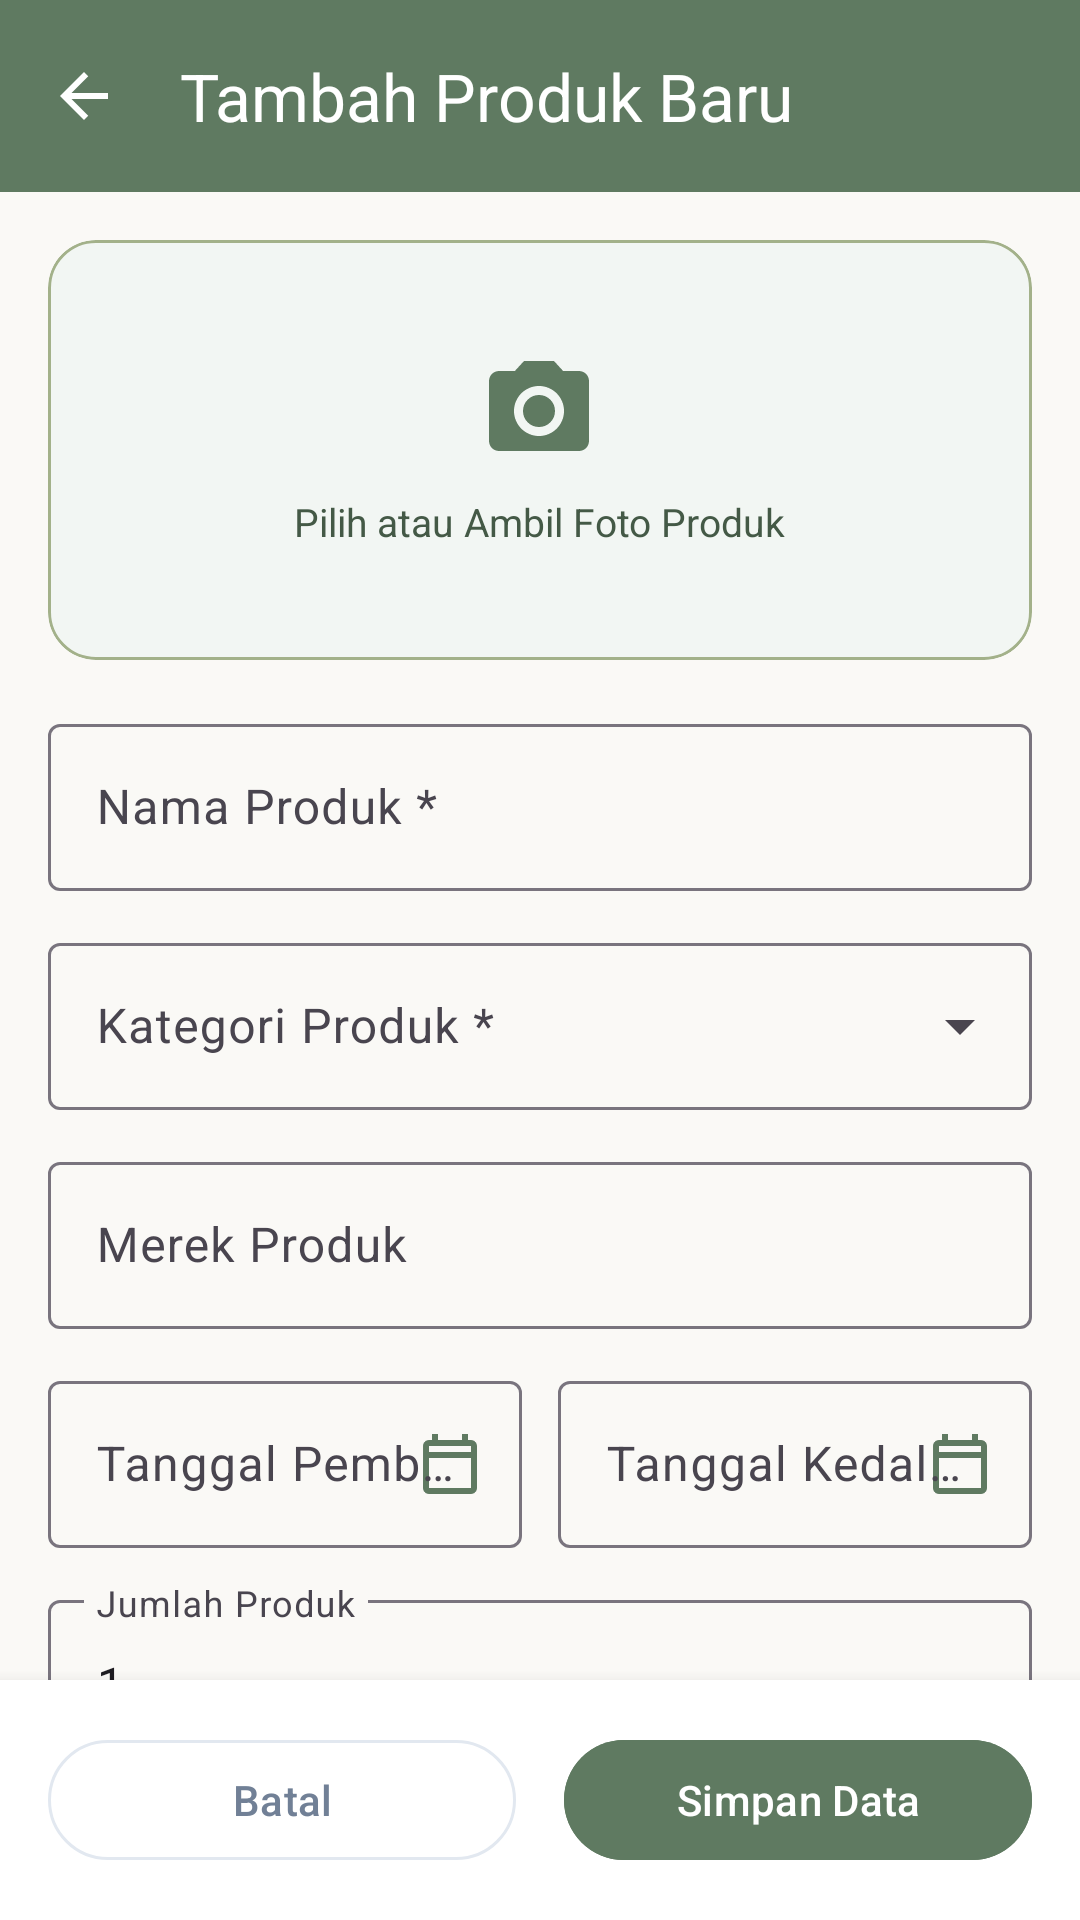

Locate icon controls on the screen. Image size 1080w x 1920h, boxes as (x1, y1, x2, y2).
Foto Produk (Opsional): (489, 361, 589, 451)
